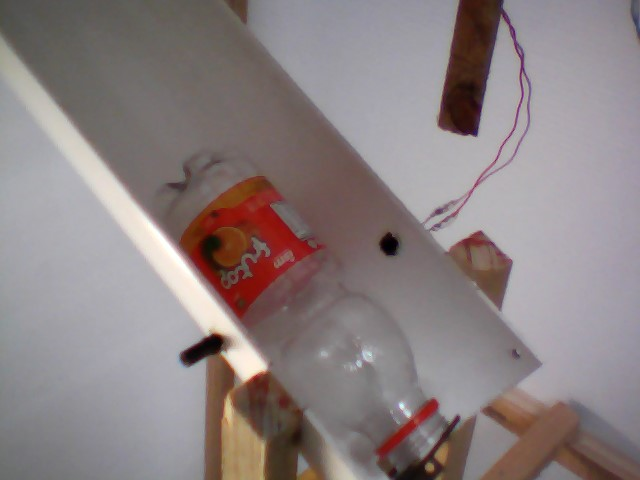plastico: (150, 145, 461, 480)
